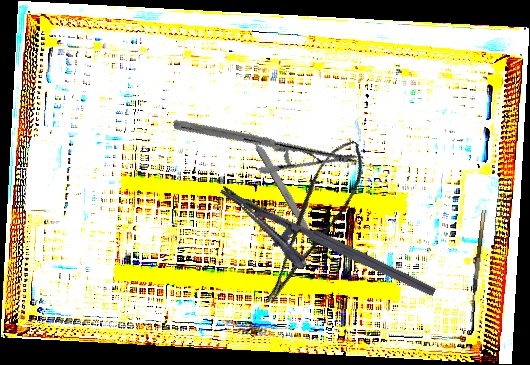Hook Surgical: (468, 209, 492, 324)
Micro Scissor: (237, 132, 382, 308)
Needle Holder: (205, 183, 437, 328), (171, 69, 360, 215)
Scalpel Handle: (246, 128, 320, 247)
